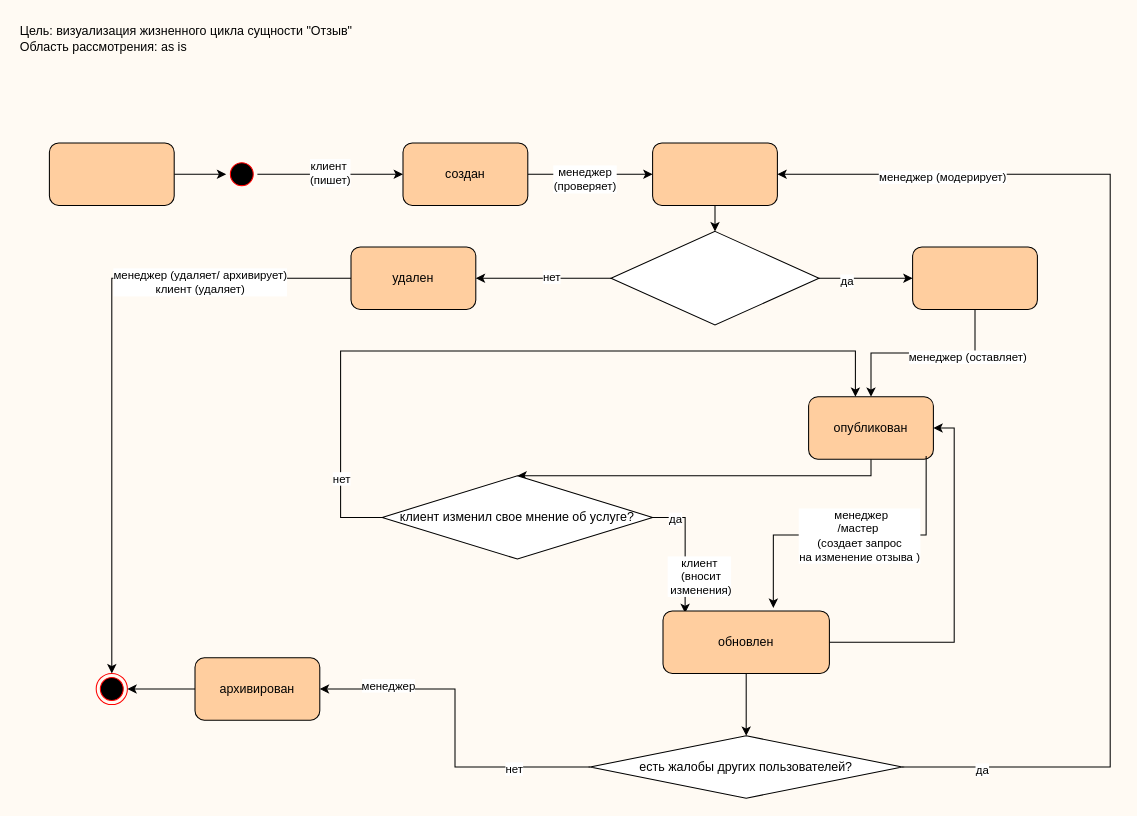
Image size: 1137x816. Some labels were removed from this diagram. The shapes that lost their labels are listed below. From the top down, each one's centre as x and y in pixels, then its label:
At point (111, 173): "отзыв не существует".
At point (714, 173): "на проверке".
At point (714, 277): "отзыв прошел проверку/модерацию?".
At point (974, 277): "одобрен".
